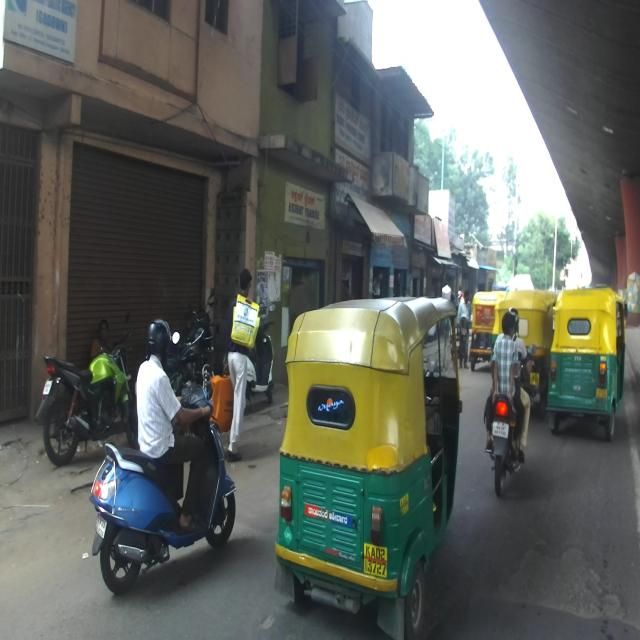autorickshaw: (274, 284, 468, 639), (546, 284, 628, 440), (496, 286, 558, 418), (468, 289, 507, 372), (490, 293, 504, 367)
motorcycle: (484, 341, 536, 497)
motorcycle_Hero: (162, 286, 216, 401)
motorcycle_Honda: (34, 309, 138, 466)
motorcycle_RoyalEnfield: (162, 302, 214, 398)
scooter: (89, 374, 236, 596), (237, 302, 276, 402)
